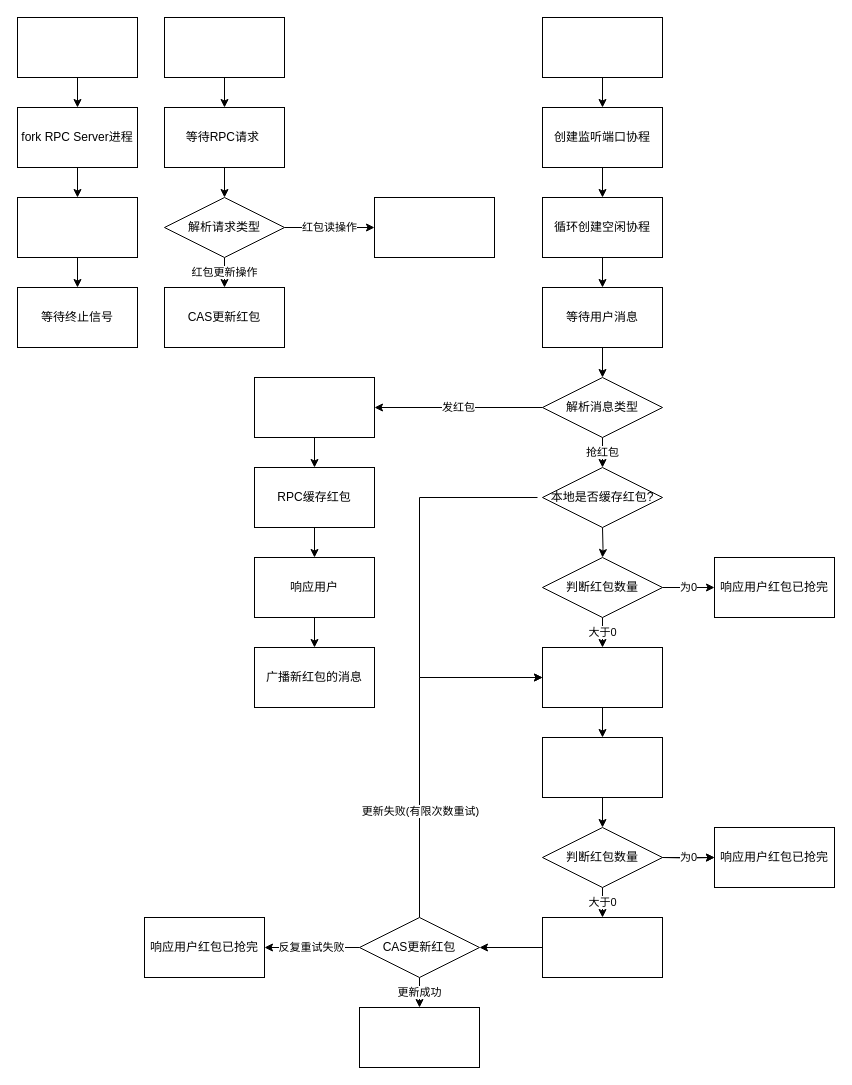
Image size: 852x1085. Some labels were removed from this diagram. The shapes that lost their labels are listed below. From the top down, each one's centre as x and y in pixels, then its label:
At point (77, 47): "主进程".
At point (224, 47): "RPC Server进程".
At point (602, 47): "HTTP Server进程".
At point (77, 227): "循环fork HTTP Server进程".
At point (434, 227): "响应读取结果".
At point (314, 407): "DB插入红包记录".
At point (602, 677): "RPC查询红包信息".
At point (602, 767): "更新本地红包缓存".
At point (602, 947): "分配红包".
At point (419, 1037): "响应用户抢红包结果".
